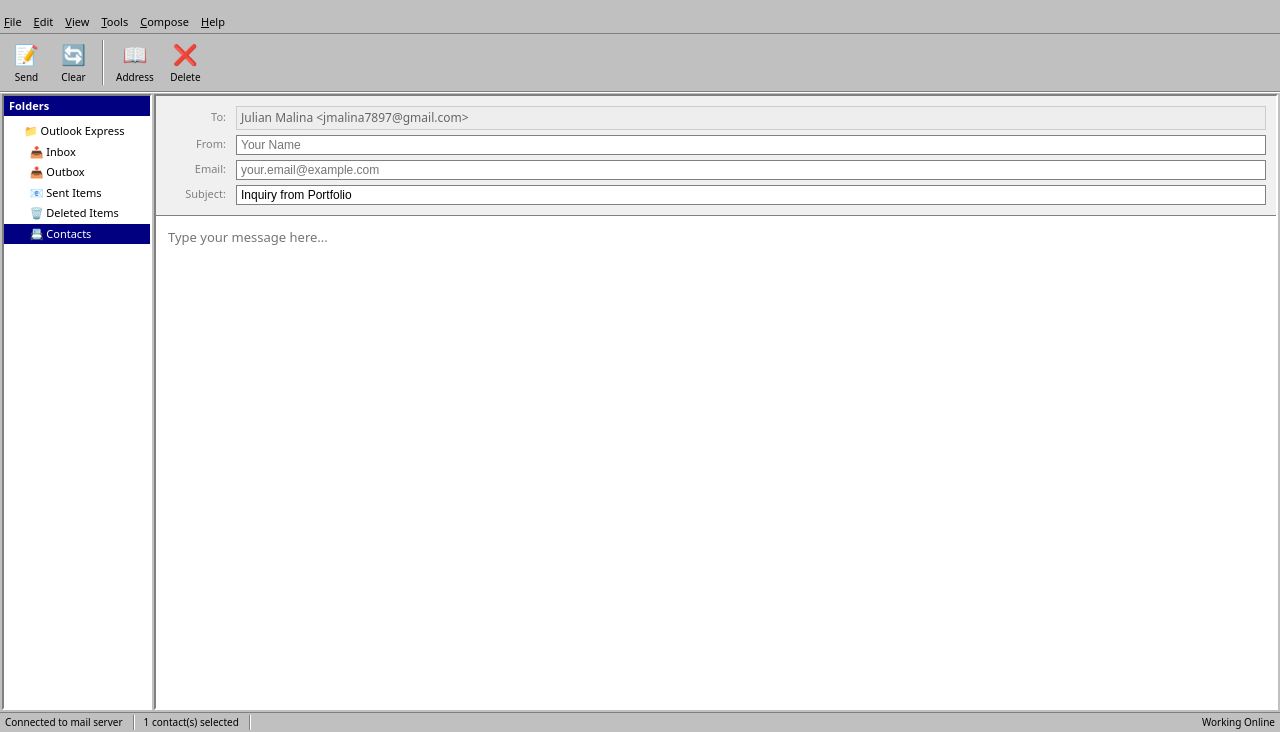
Test: Contact App › shows sending status and clears form on clear
The width and height of the screenshot is (1280, 732).
// Fill something
Step 1. Type "Test User" into the field with placeholder "Your Name" → [751, 144], box x1=236 y1=134 x2=1266 y2=154
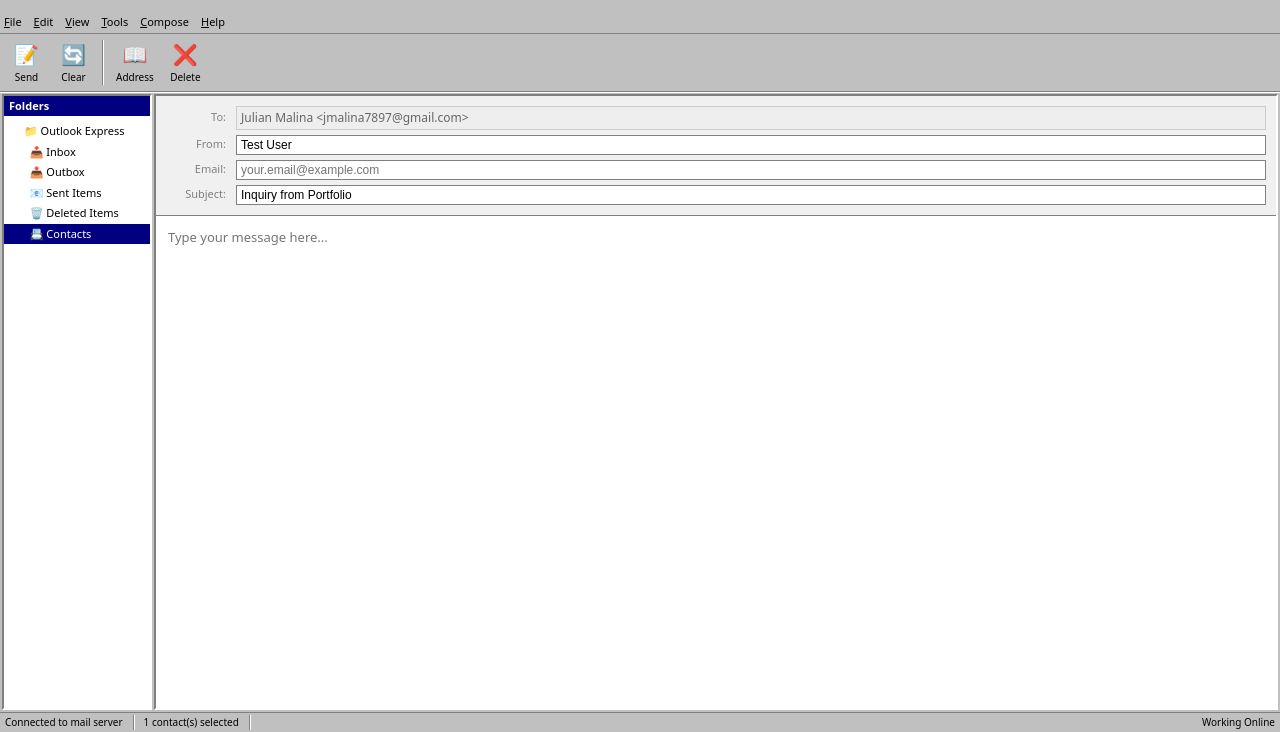
Step 2. Click the text "Clear" → [74, 76], box x1=61 y1=70 x2=86 y2=84
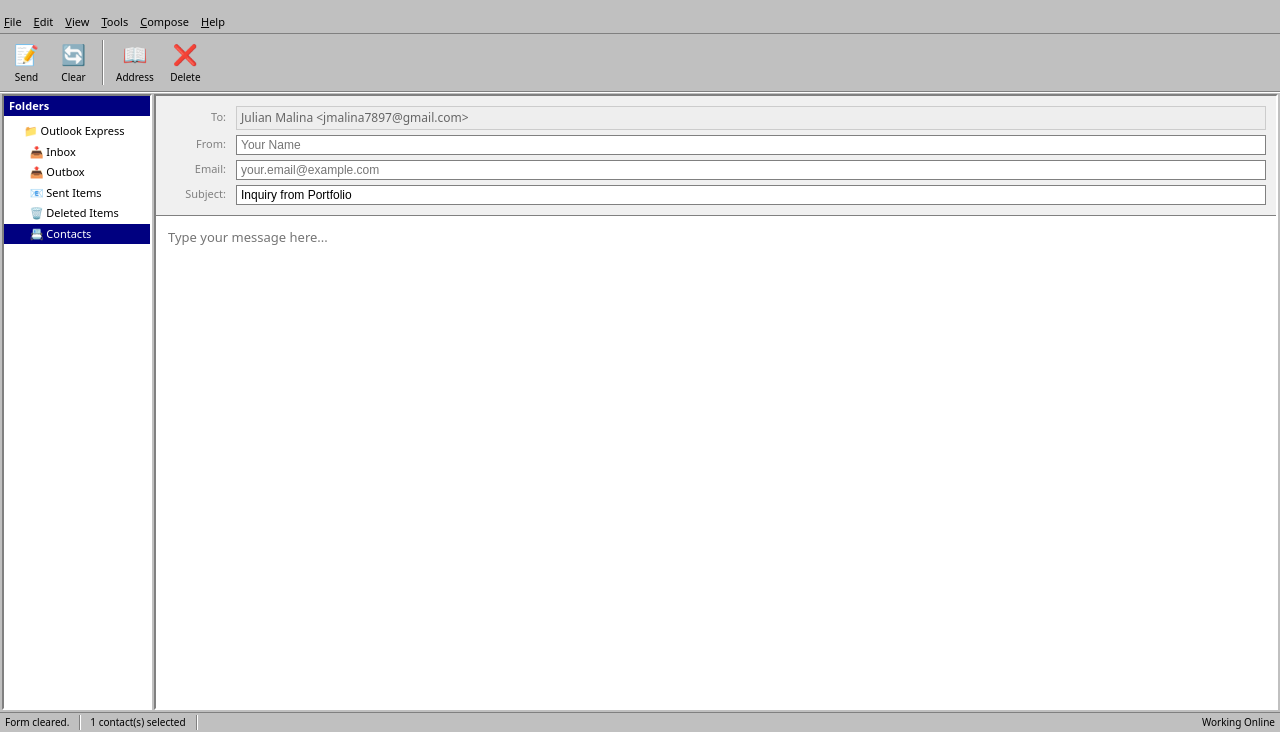
Expected: the text "Form cleared." is shown, x1=5 y1=715 x2=80 y2=730
Expected: the field with placeholder "Your Name" is empty, x1=236 y1=134 x2=1266 y2=154
